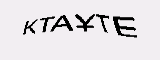Б: (95, 18, 116, 49)
Д: (47, 22, 66, 46)
З: (61, 23, 78, 47)
Т: (37, 18, 48, 41)
Я: (78, 24, 98, 49)
